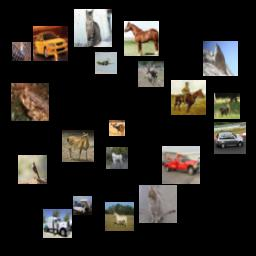airplane: (95, 52, 117, 74)
automobile: (33, 26, 68, 61), (214, 122, 246, 154)
bird: (203, 41, 238, 76), (18, 155, 47, 184), (12, 42, 31, 61)
cat: (139, 185, 177, 223), (74, 9, 112, 47)
deer: (62, 130, 94, 162), (138, 61, 164, 87), (214, 93, 240, 119), (106, 147, 128, 169), (109, 120, 125, 136)
frog: (11, 83, 49, 121)
truck: (162, 146, 200, 184), (43, 209, 72, 238), (73, 196, 92, 215)
